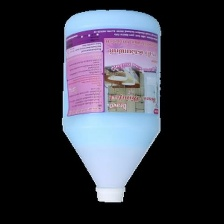cleaning_solution: (59, 7, 164, 208)
